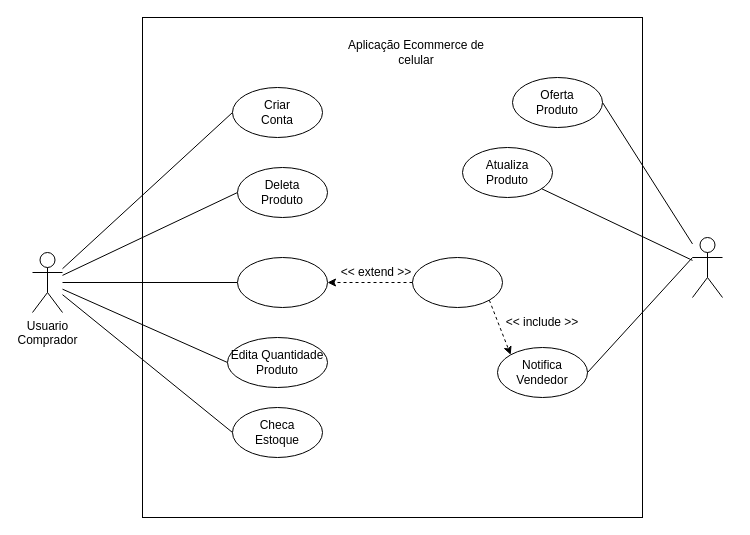
This 750x535 diagram has some shape labels left out. Each missing label, with the centre of its shape:
Cadastra Produto: point 282,282
Finaliza Compra: point 457,282
Usuario Vendedor: point 707,267
